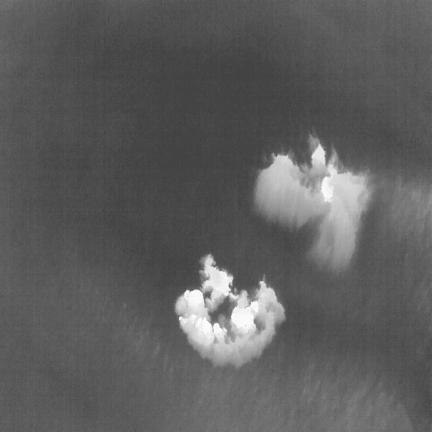flukeprints: (254, 136, 368, 268), (175, 255, 284, 367)
